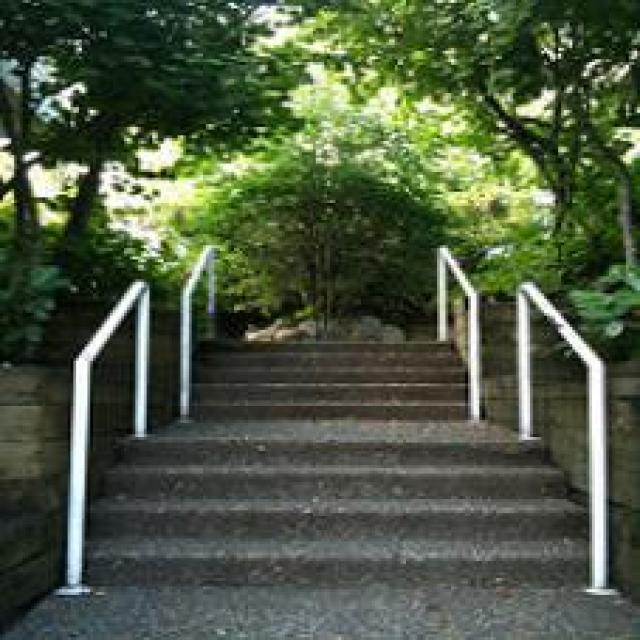upstair: (111, 339, 607, 576)
